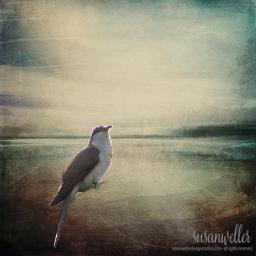Cuckoo: (48, 125, 113, 250)
